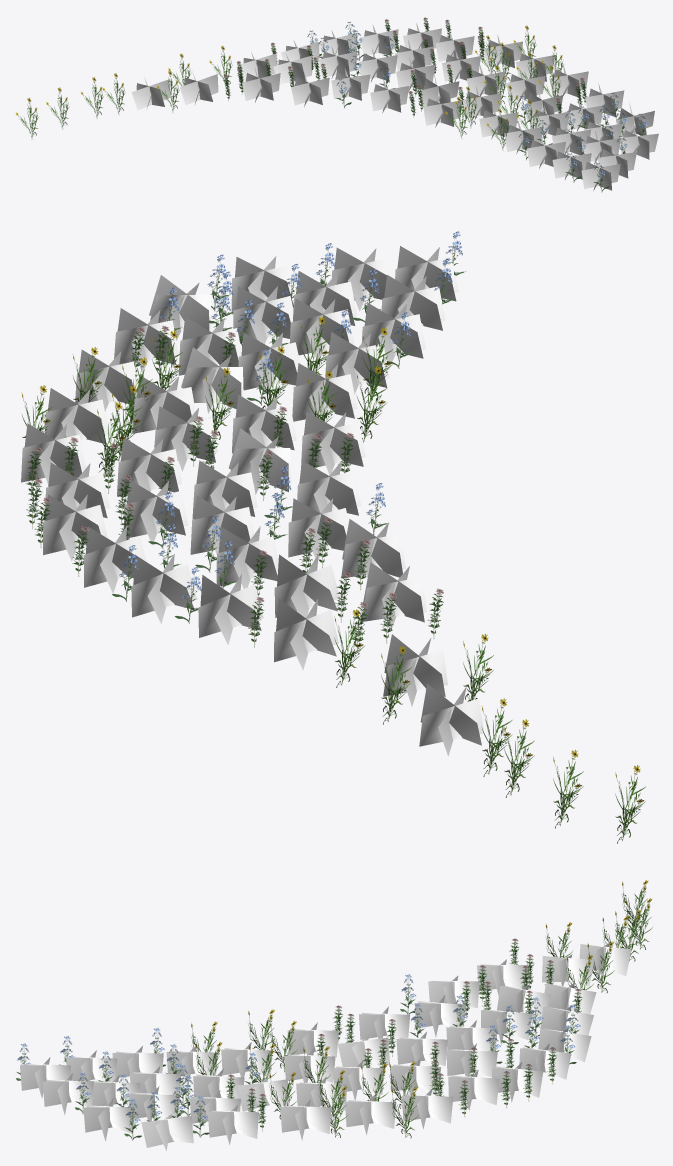
Rendered from grass_field_y.glb.
The picture shows the model from 3 angles, top to bottom: view 1: azimuth 30°, elevation 25°; view 2: azimuth 150°, elevation 25°; view 3: azimuth 270°, elevation 25°; orthographic projection. The views are drawn at different scales.
Parts seen in each view (by area): view 1: stk_grassAlpha.png__, BlackEyedSusan.png__, Flower5.png__, Flower3.png__, Flower3F.png__, Flower5F.png__; view 2: stk_grassAlpha.png__, BlackEyedSusan.png__, Flower5.png__, Flower3.png__, Flower3F.png__; view 3: stk_grassAlpha.png__, BlackEyedSusan.png__, Flower5.png__, Flower3.png__, Flower3F.png__.
Boxes of the visible parts, bbox=[...] form: stk_grassAlpha.png__: bbox=[131, 23, 658, 190]; BlackEyedSusan.png__: bbox=[16, 25, 563, 149]; Flower5.png__: bbox=[224, 18, 587, 117]; Flower3.png__: bbox=[307, 22, 645, 192]; Flower3F.png__: bbox=[307, 22, 647, 177]; Flower5F.png__: bbox=[223, 17, 584, 101]; stk_grassAlpha.png__: bbox=[21, 246, 484, 756]; BlackEyedSusan.png__: bbox=[21, 316, 645, 843]; Flower5.png__: bbox=[25, 327, 443, 651]; Flower3.png__: bbox=[112, 232, 466, 623]; Flower3F.png__: bbox=[119, 231, 462, 598]; stk_grassAlpha.png__: bbox=[20, 943, 631, 1150]; BlackEyedSusan.png__: bbox=[191, 880, 652, 1138]; Flower5.png__: bbox=[225, 939, 582, 1131]; Flower3.png__: bbox=[16, 975, 579, 1140]; Flower3F.png__: bbox=[17, 974, 580, 1122].
Bounding box in the file's own units: 54.78 × 9.28 × 52.4.
Materials: 6 (5 with a texture image).
